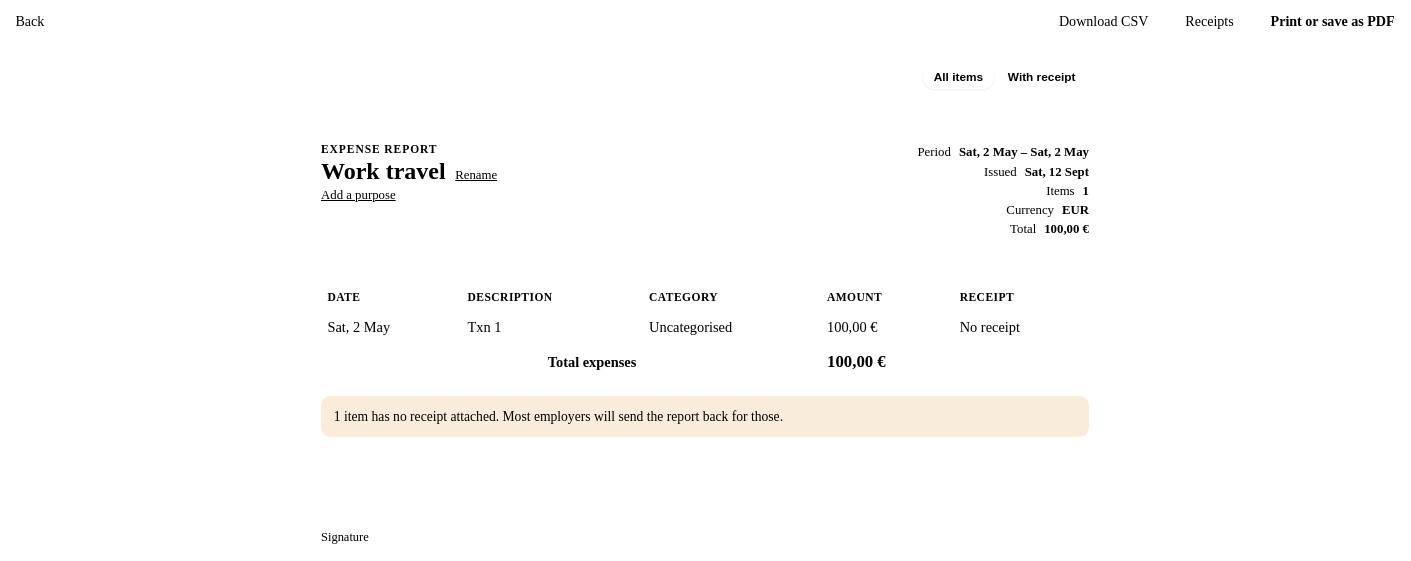
Scenario: ExpenseReportView — the purpose line › shows what the claimant writes under the title
The width and height of the screenshot is (1411, 561).
Click the button "Add a purpose" at (358, 195), box [321, 188, 396, 203]
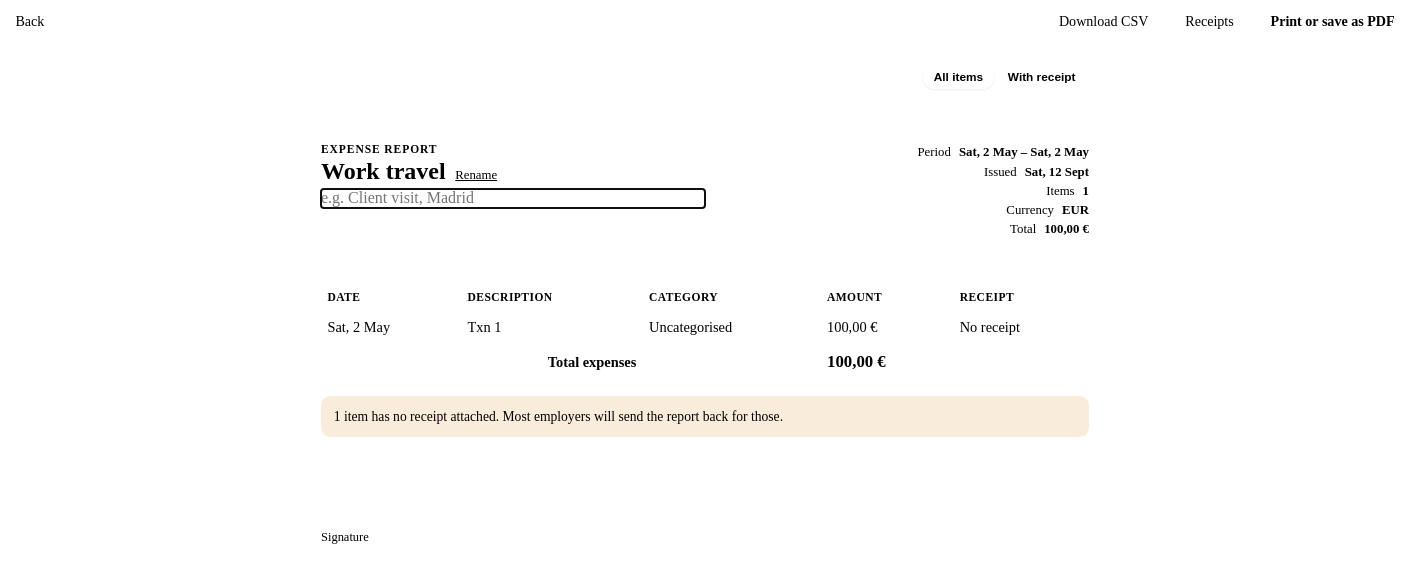
Type "Client visit, Madrid" into the field named "Report purpose" at (513, 198), box [321, 189, 705, 208]
Then press Enter
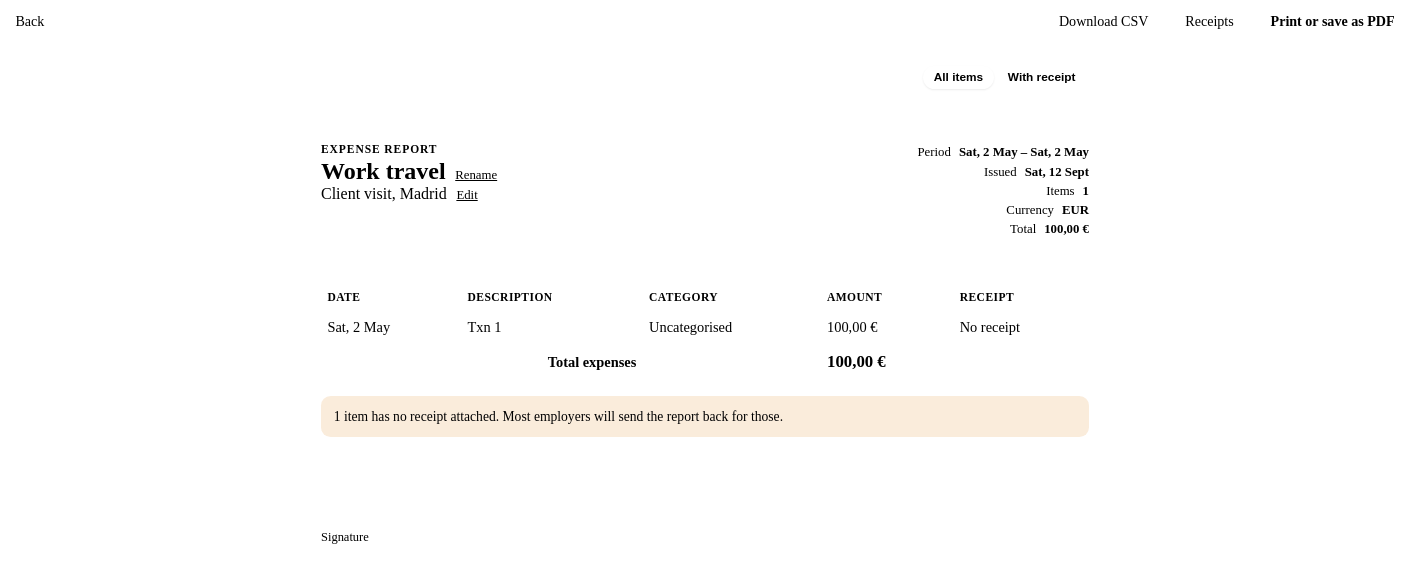
Check: the button "Add a purpose" is not shown
Check: the text "Client visit, Madrid" is shown, box [321, 185, 447, 203]
